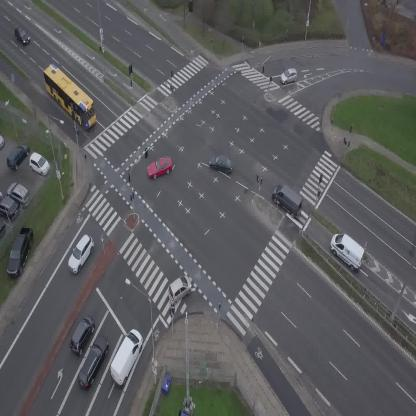bus: (35, 61, 106, 132)
car: (74, 333, 114, 392), (62, 232, 99, 275), (65, 314, 99, 358), (161, 272, 197, 307), (144, 154, 176, 180), (207, 153, 236, 175), (10, 23, 32, 48), (279, 68, 299, 85)
lorry: (105, 326, 149, 388), (324, 228, 372, 274), (266, 179, 310, 221)
